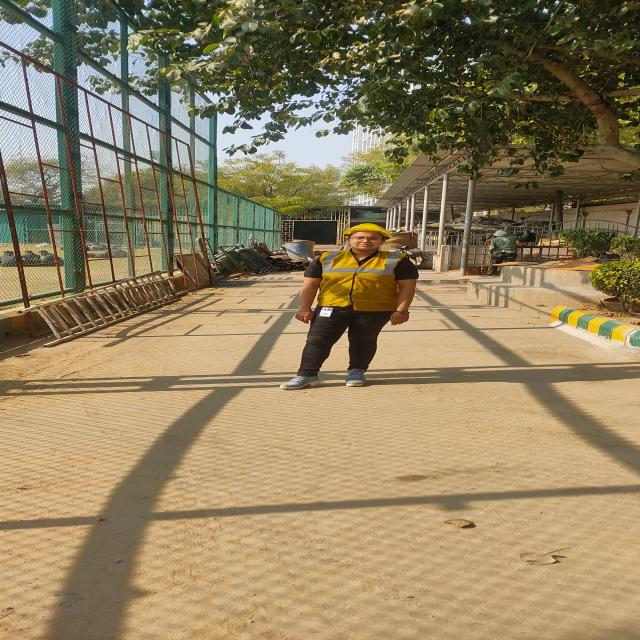safe: (295, 223, 416, 386)
unsafe: (489, 230, 528, 262), (21, 249, 63, 266), (0, 248, 18, 267)
